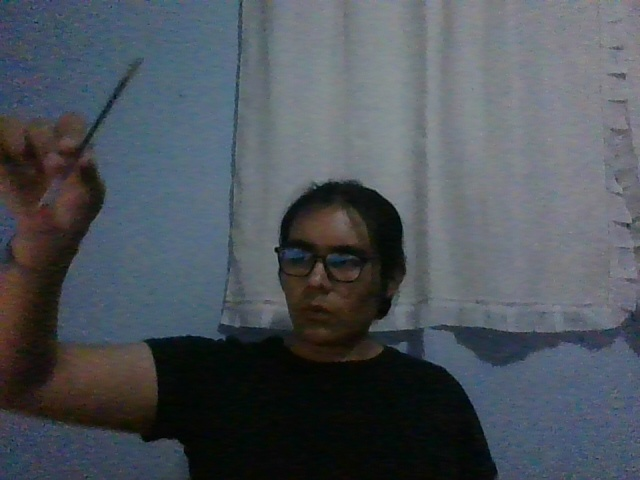pluma: (34, 56, 145, 216)
